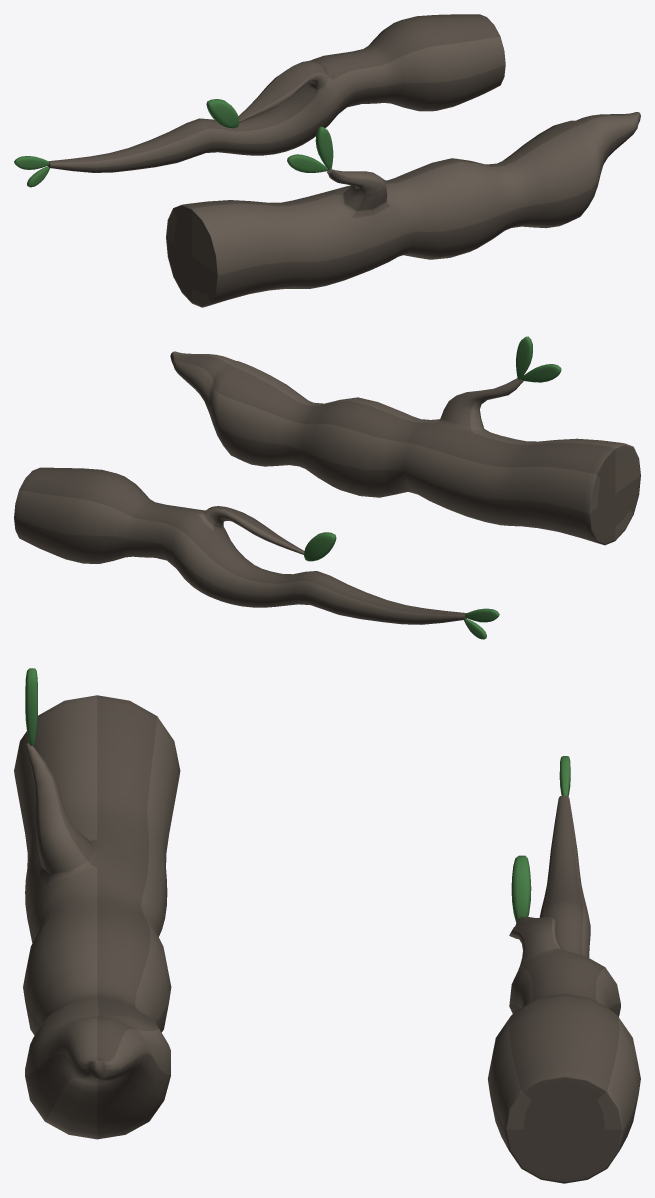
The model's file is troncos.fbx.
3 renders of one model, top to bottom at view 1: azimuth 30°, elevation 25°; view 2: azimuth 150°, elevation 25°; view 3: azimuth 270°, elevation 25°, orthographic. The views are drawn at different scales.
Parts seen in each view (by area): view 1: polySurface4, polySurface5, pCube5, pCube1, pCube2; view 2: polySurface4, polySurface5, pCube5, pCube1, pCube2; view 3: polySurface4, polySurface5, pCube5, pCube1.
Boxes of the visible parts, x1=… form: polySurface4: x1=166, y1=112, x2=640, y2=307; polySurface5: x1=47, y1=14, x2=505, y2=172; pCube5: x1=206, y1=99, x2=239, y2=128; pCube1: x1=315, y1=126, x2=333, y2=169; pCube2: x1=287, y1=154, x2=328, y2=172; polySurface4: x1=170, y1=351, x2=640, y2=545; polySurface5: x1=14, y1=467, x2=466, y2=624; pCube5: x1=304, y1=532, x2=336, y2=561; pCube1: x1=516, y1=336, x2=532, y2=379; pCube2: x1=520, y1=364, x2=561, y2=382; polySurface4: x1=14, y1=695, x2=180, y2=1139; polySurface5: x1=488, y1=795, x2=640, y2=1183; pCube5: x1=511, y1=855, x2=531, y2=922; pCube1: x1=25, y1=668, x2=37, y2=746.
Bounding box in the file's own units: 21.23 × 7.48 × 15.13.
